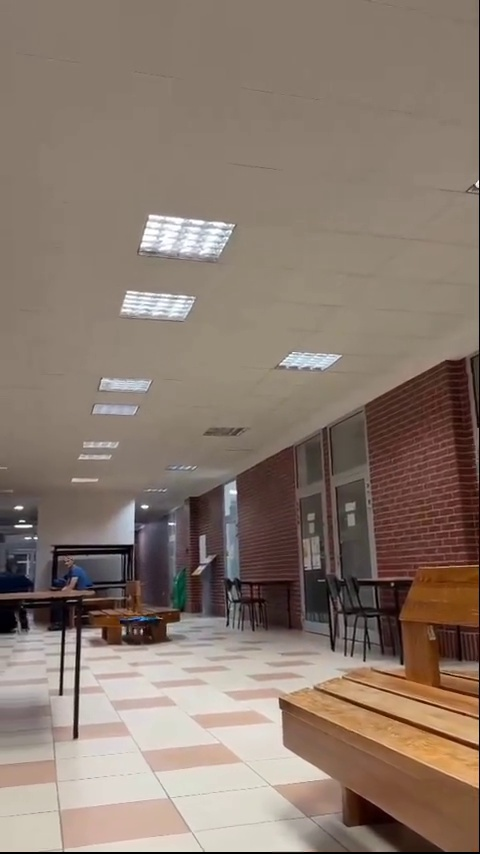drone: (122, 610, 164, 629)
no vest: (51, 550, 95, 607)
